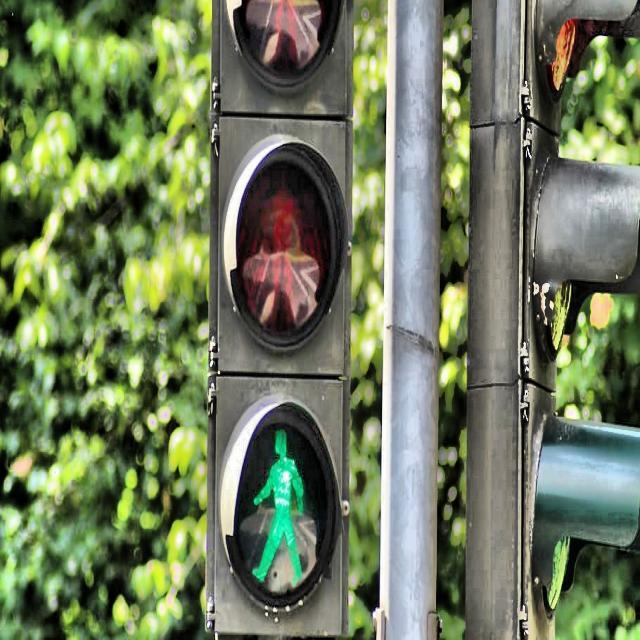green_light: (250, 426, 307, 589)
